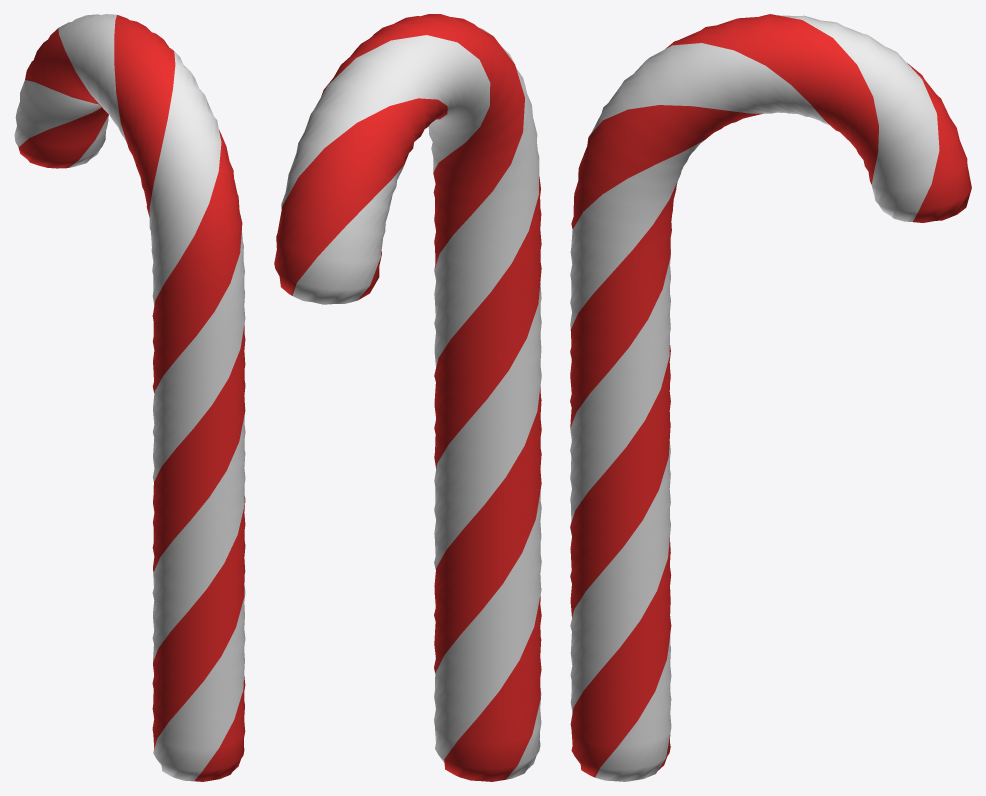
File: candy cane v2.fbx
3 renders of one model, left to right at view 1: azimuth 30°, elevation 25°; view 2: azimuth 150°, elevation 25°; view 3: azimuth 270°, elevation 25°, orthographic. The views are drawn at different scales.
Parts seen in each view (by area): view 1: Circle.001; view 2: Circle.001; view 3: Circle.001.
Part boxes in pixels (x1,y1,x2,y2): Circle.001: [14, 14, 245, 781]; Circle.001: [274, 14, 541, 781]; Circle.001: [570, 14, 971, 781].
Bounding box in the file's own units: 171 × 1409 × 680.
